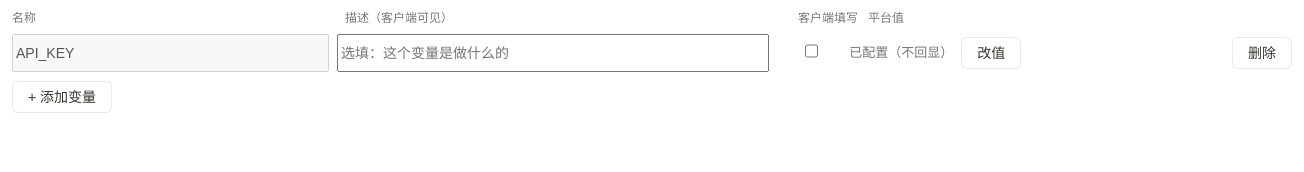
ParamRowsEditor › A11 三步式改值 / 删除（threeStep） › 点【删除】：不出数组，置 pendingDelete、行标「待删除」并给【撤销】
Click the button "删除".
click(1262, 53)  # box [1232,37,1292,69]
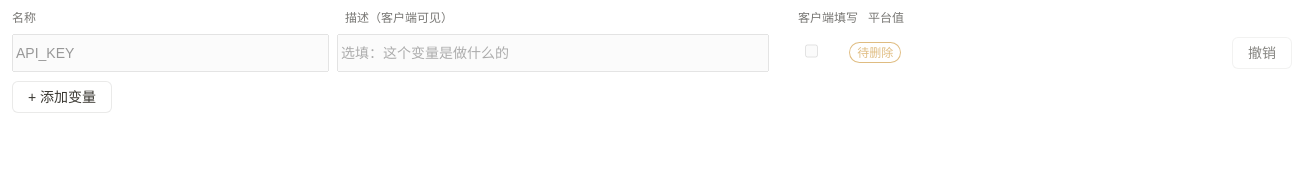
Check: the text "待删除" is shown, box [849,42,901,63]
Check: the element showing "待删除 撤销" is shown, box [12,32,1292,73]
Check: the button "改值" no longer shows "改值"
